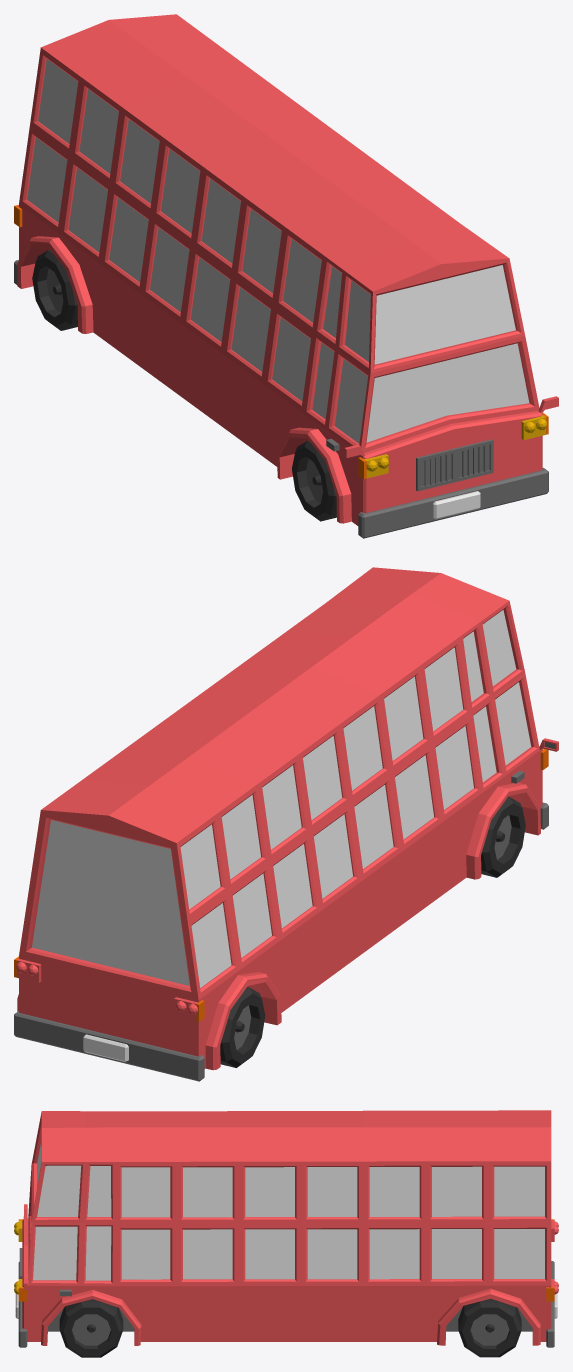
The model's file is Car K.fbx.
3 views of the same model, one above another, from view 1: azimuth 30°, elevation 25°; view 2: azimuth 150°, elevation 25°; view 3: azimuth 270°, elevation 25° (orthographic). The views are drawn at different scales.
Parts seen in each view (by area): view 1: Car K; view 2: Car K; view 3: Car K.
Boxes of the visible parts, box(x1,y1,x2,y2) form: Car K: box(14, 14, 558, 538); Car K: box(14, 567, 558, 1081); Car K: box(14, 1110, 558, 1357).
Size of the model in its own units: 199 by 228 by 577.
